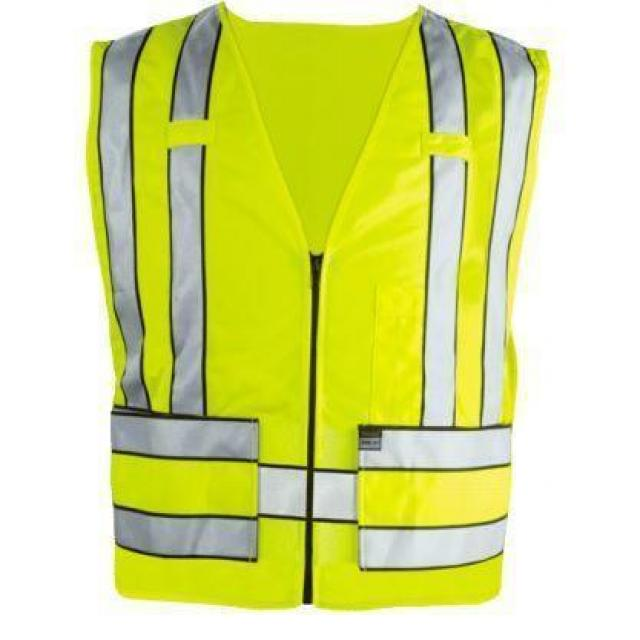vest: (89, 2, 548, 613)
